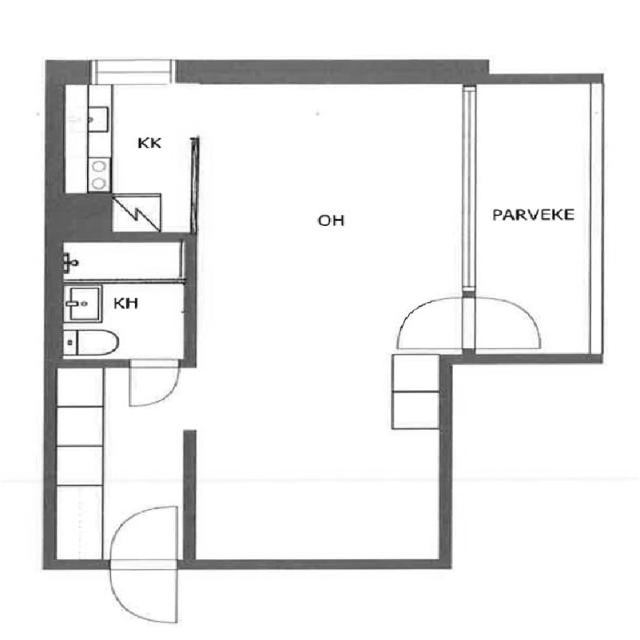door: (97, 498, 183, 626), (462, 289, 549, 357), (385, 289, 474, 355), (118, 354, 188, 416)
window: (81, 49, 192, 90), (164, 234, 197, 283)
zone: (184, 84, 454, 570), (70, 74, 208, 238), (53, 279, 190, 364), (52, 240, 188, 290)
